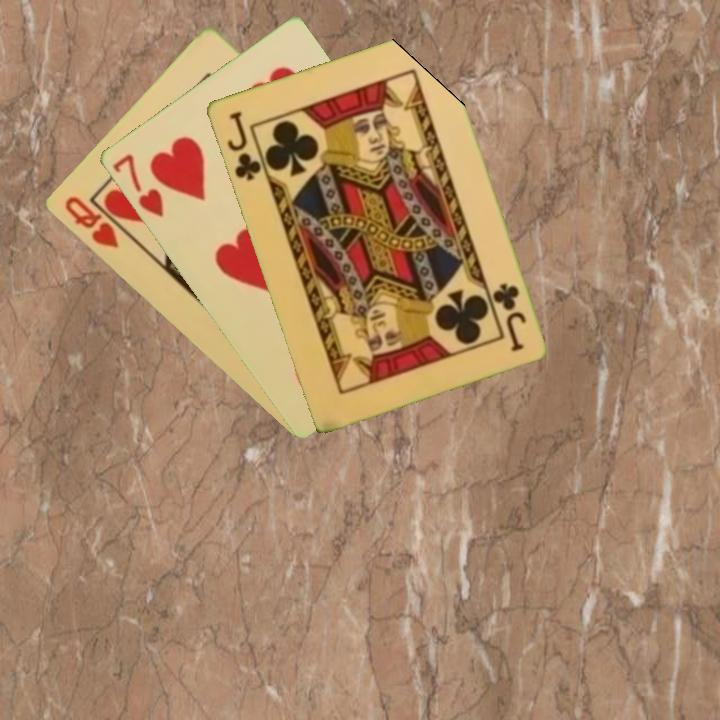7h: (108, 150, 166, 221)
Jc: (223, 107, 264, 184), (489, 279, 529, 355)
Qh: (60, 192, 122, 252)
